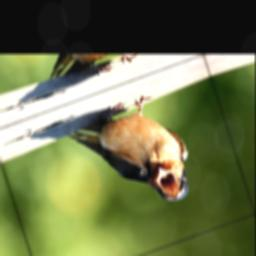Swallow: (63, 85, 202, 230)
